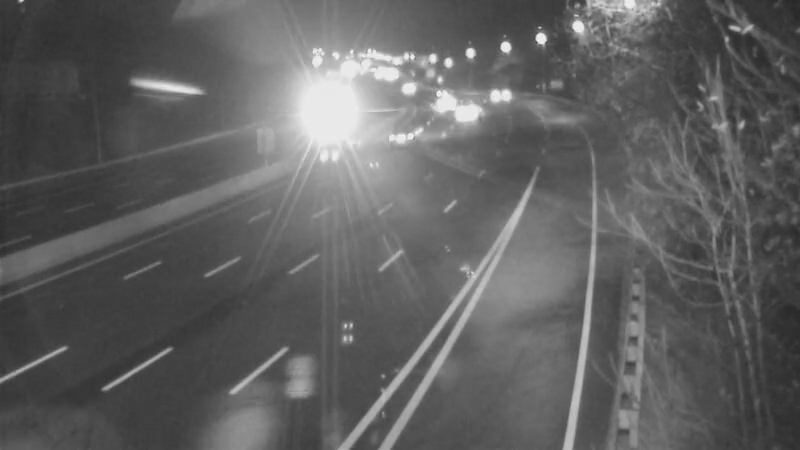vehicle: (382, 65, 432, 115), (418, 68, 468, 118), (475, 69, 525, 119), (419, 80, 469, 130), (443, 90, 493, 140), (387, 107, 437, 157), (292, 96, 342, 146)
